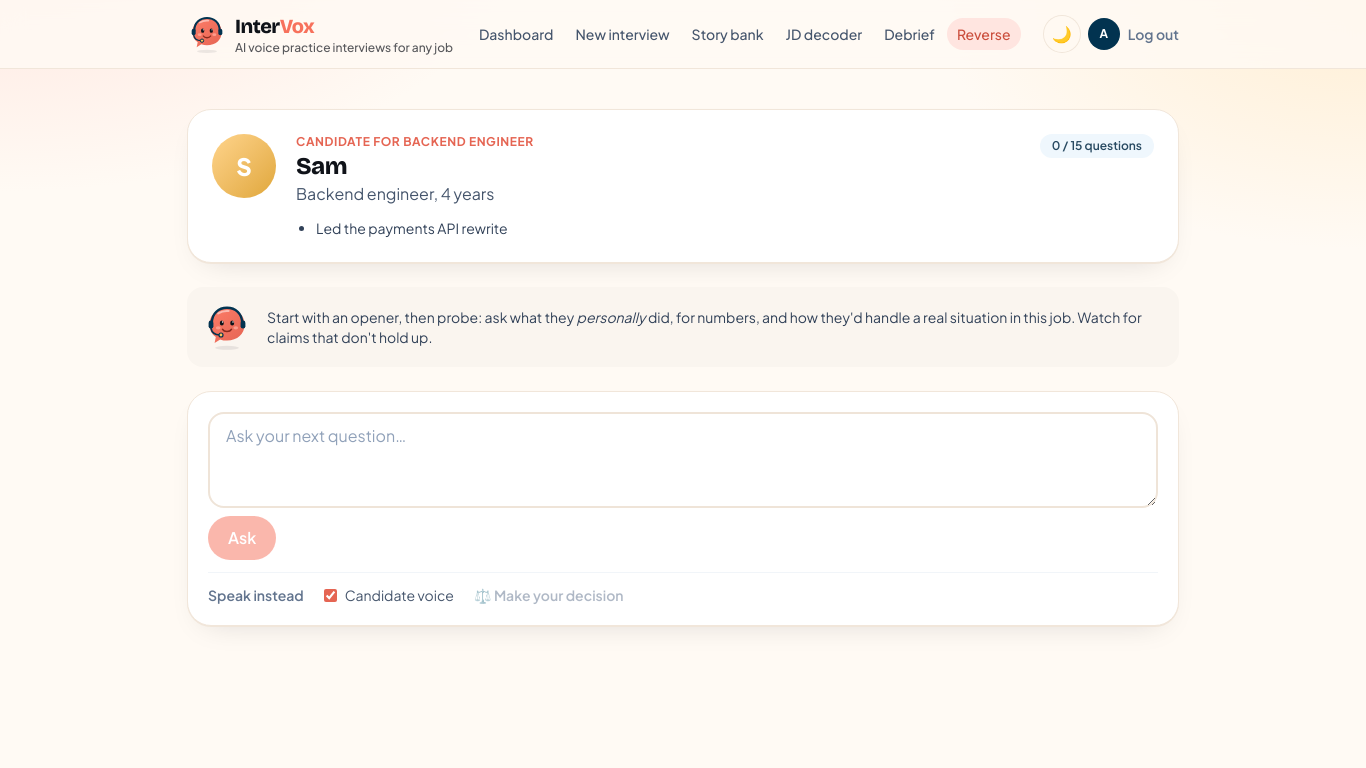
it: reverse mode › speaks the candidate's answers in the character voice, with an off switch (T-133)
In the text box named "Your question": (683, 460) [208, 412, 1158, 508], type "Who led the rewrite?"
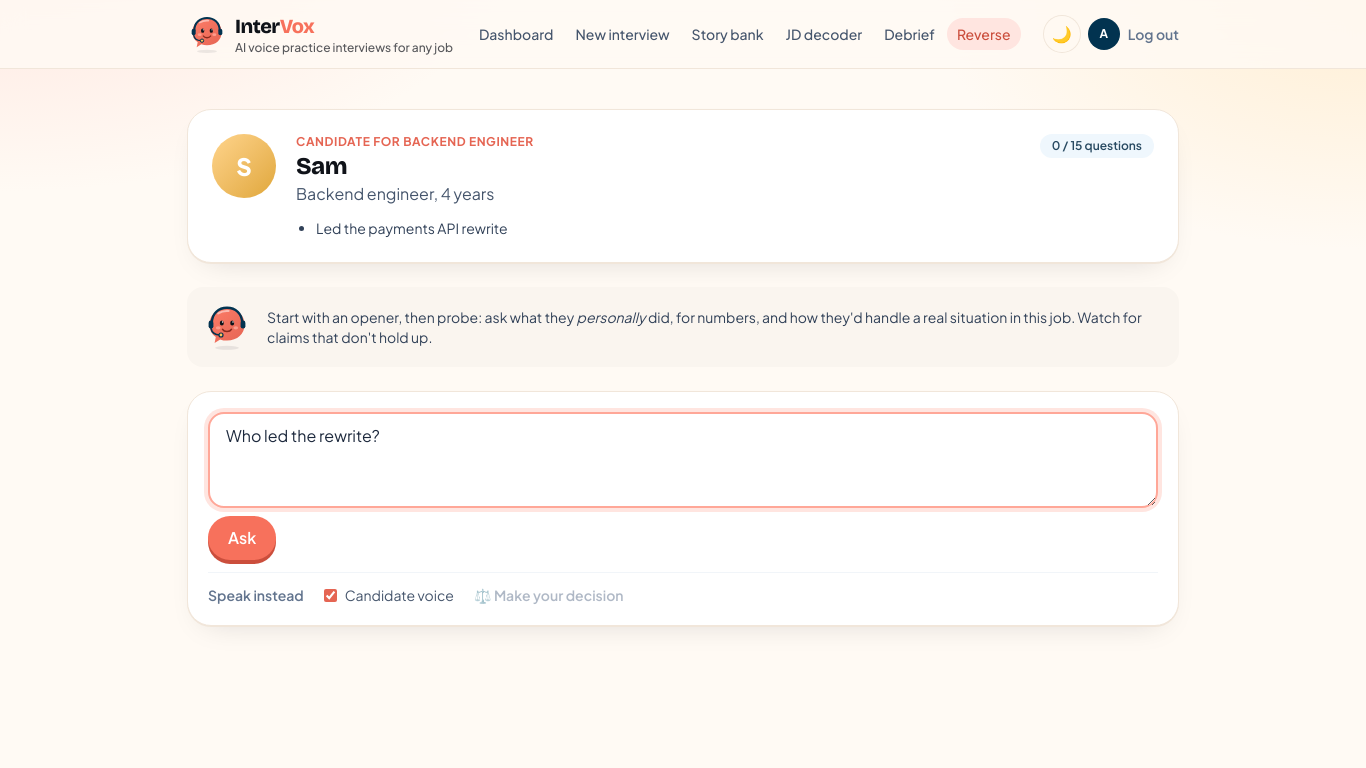
Click the button "Ask": (242, 538) [208, 516, 276, 560]
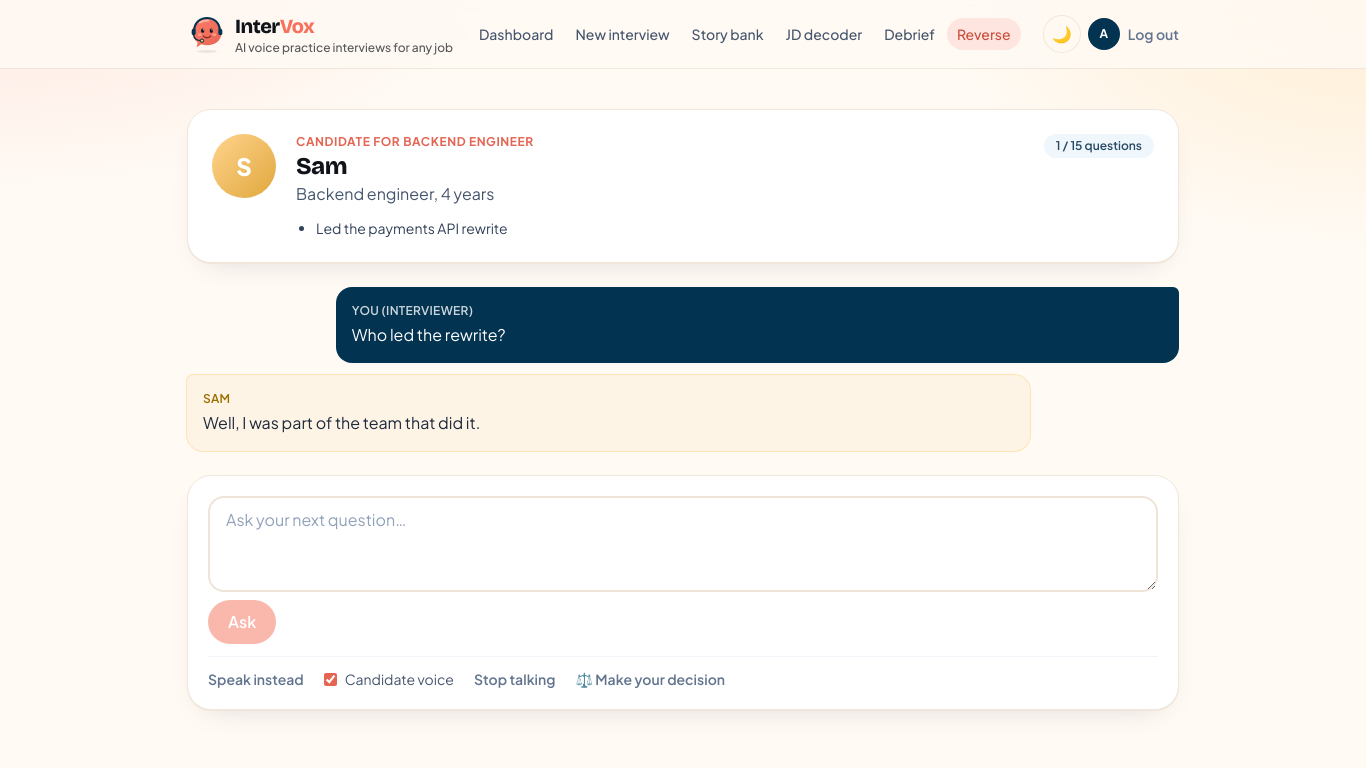
Expected: the text "Well, I was part of the team that did it." is shown, [203, 412, 480, 433]
Click the button "Stop talking": (515, 679) [474, 669, 555, 689]
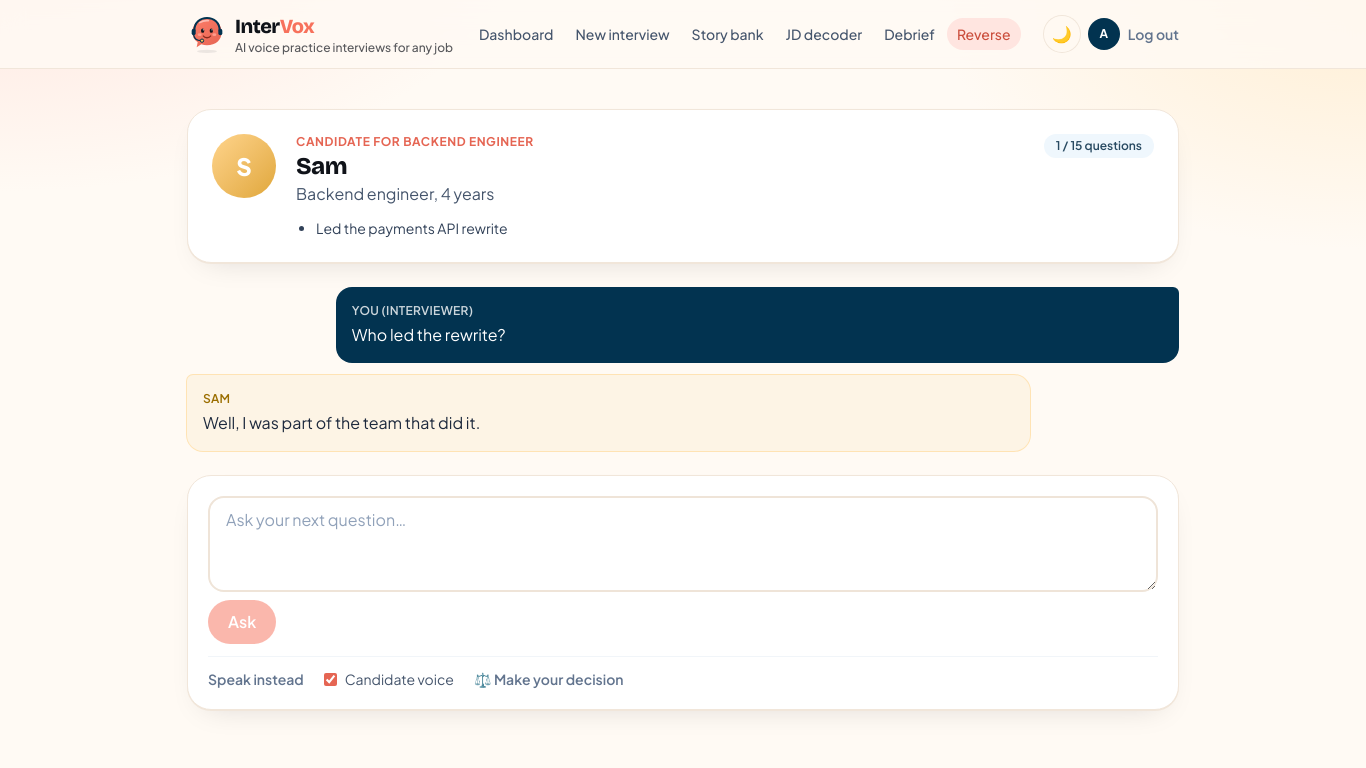
Expected: the button "Stop talking" is gone
Click the checkbox labelled "Candidate voice": (330, 679) [324, 672, 337, 686]
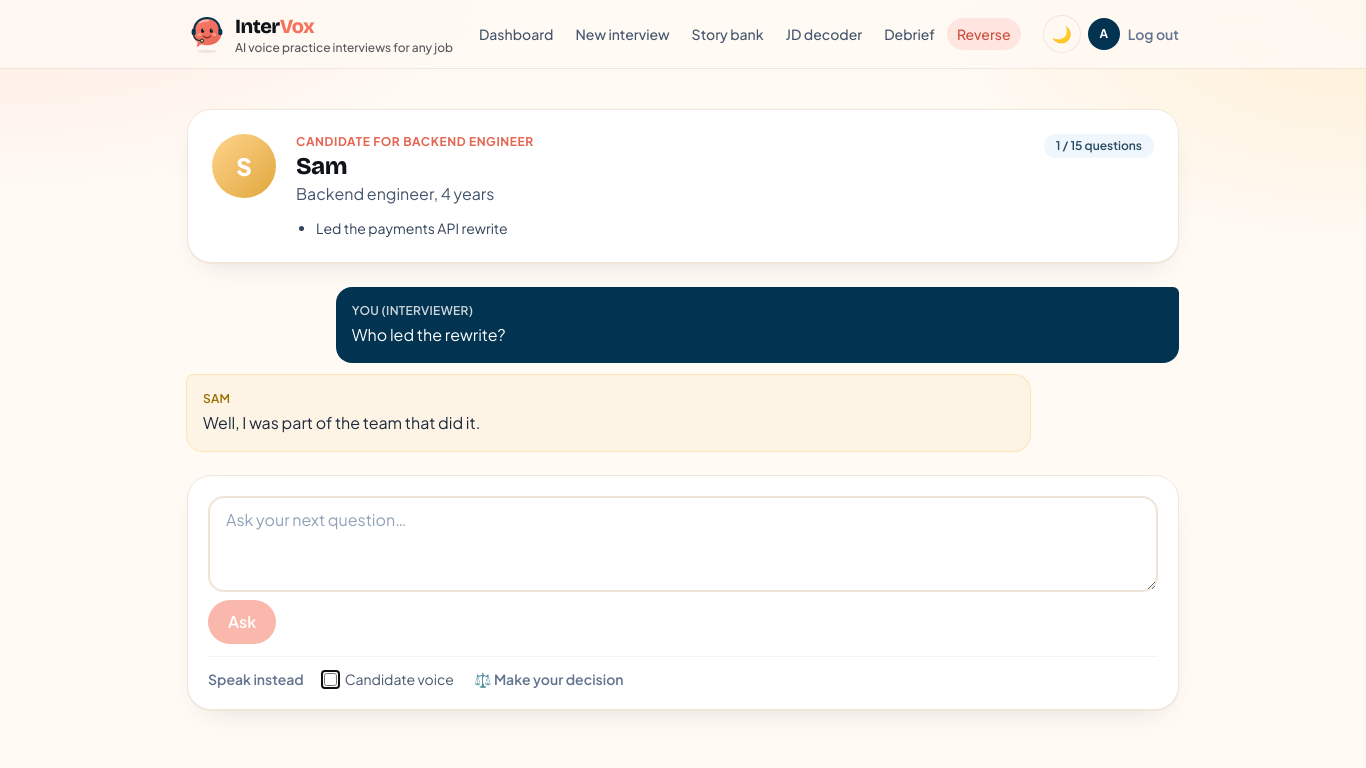
In the text box named "Your question": (683, 544) [208, 496, 1158, 592], type "What did you own?"
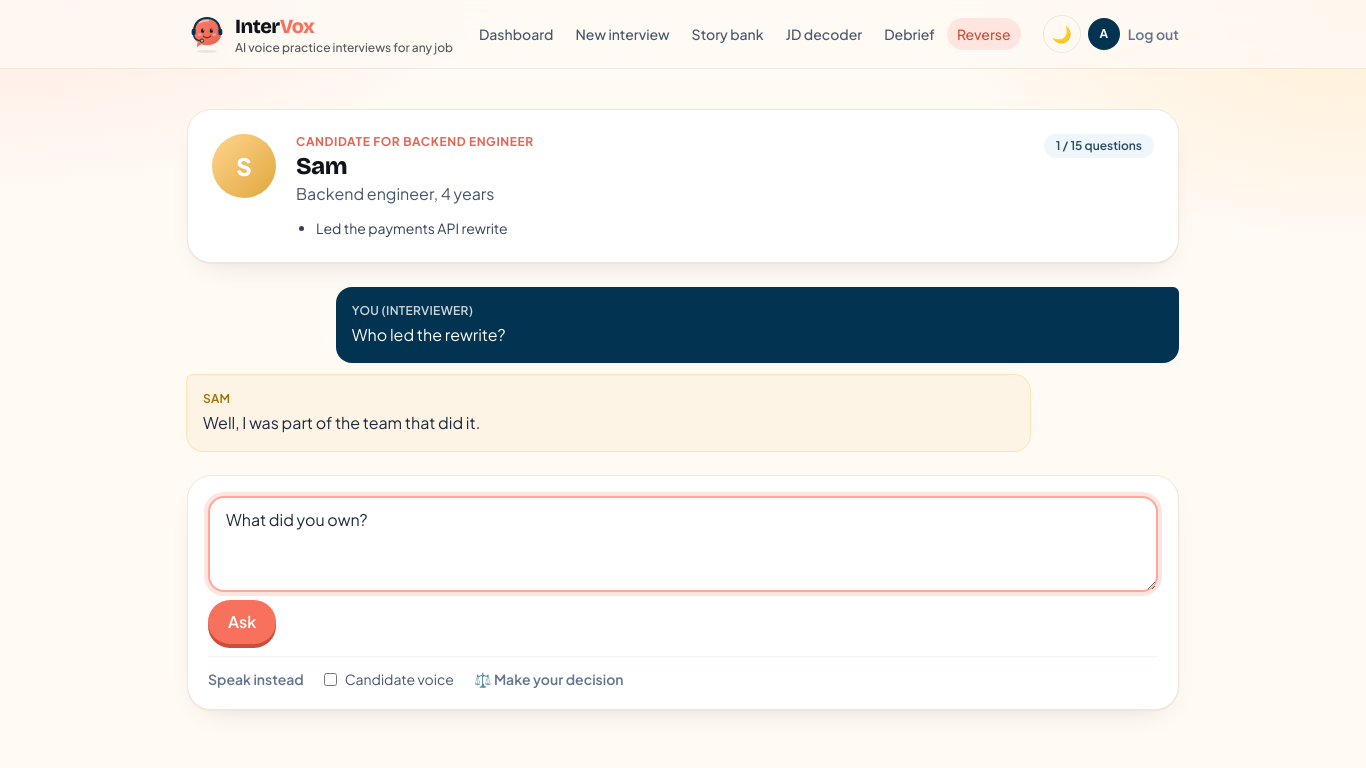
Click the button "Ask": (242, 622) [208, 600, 276, 644]
(page scrolled)
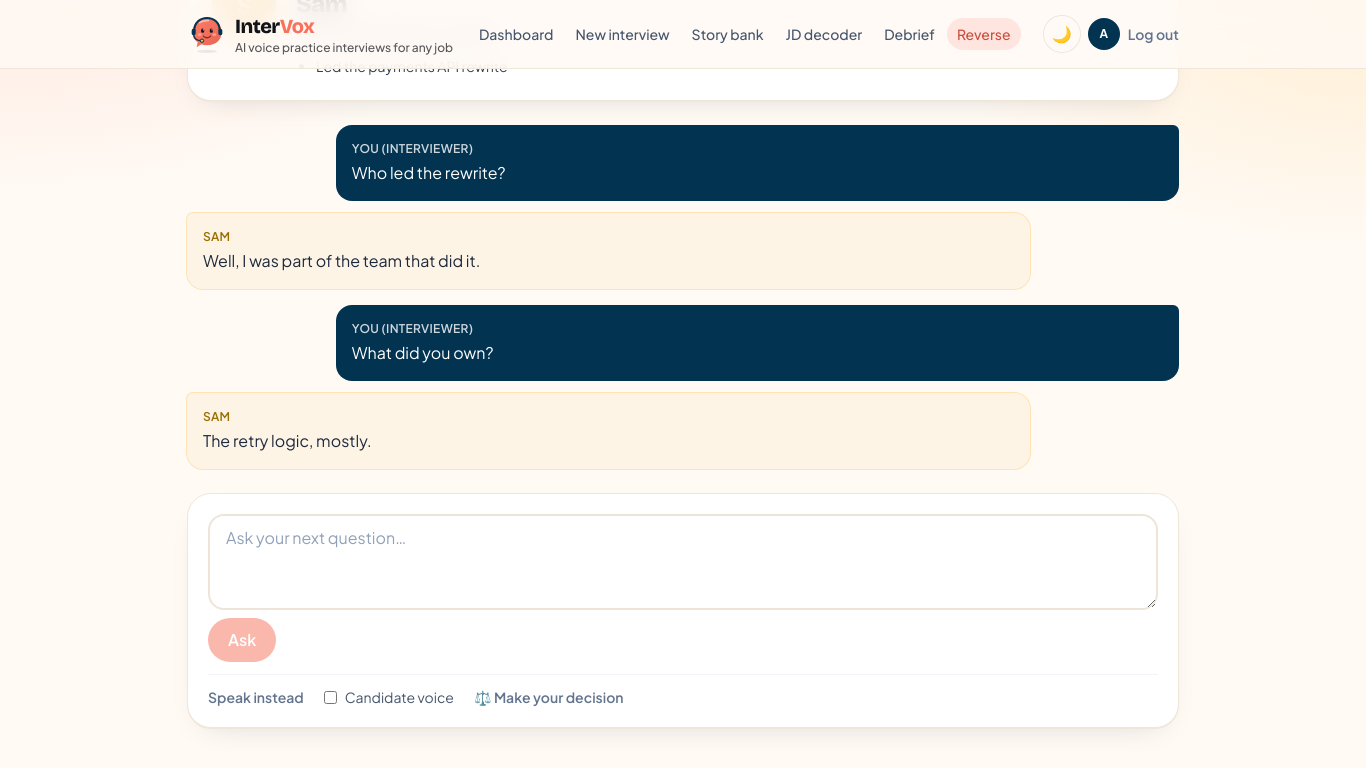
Expected: the text "The retry logic, mostly." is shown, [203, 430, 372, 451]
